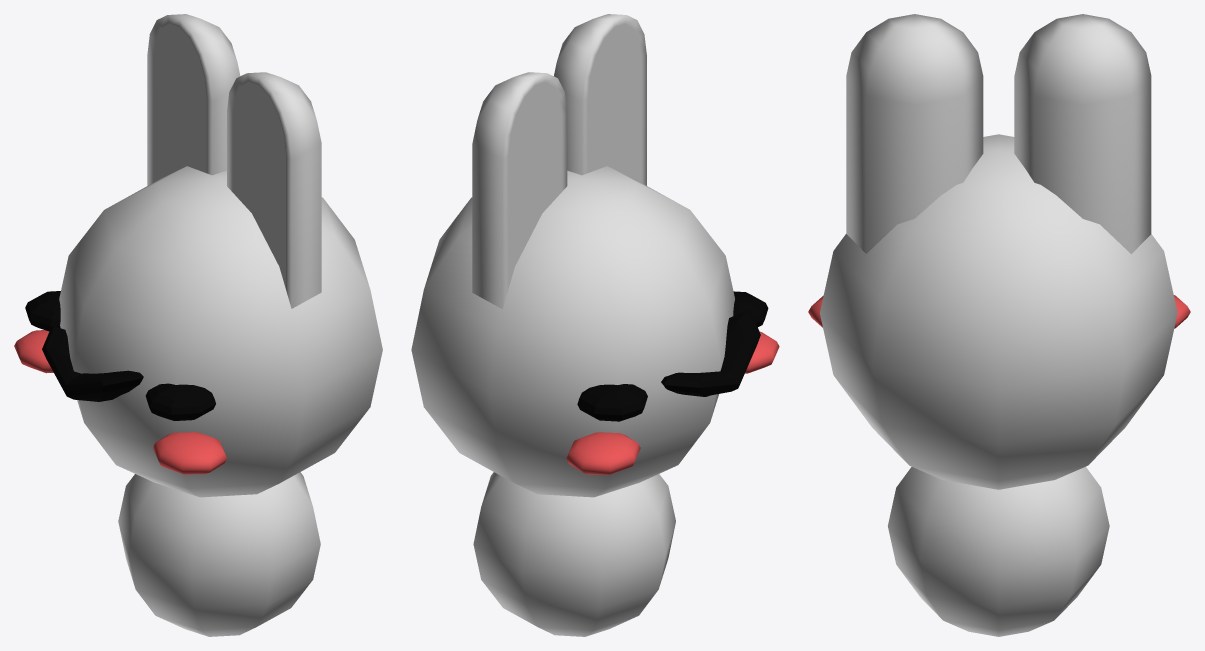
The model's file is CreepyBun_White.fbx.
3 views of the same model, side by side, from view 1: azimuth 30°, elevation 25°; view 2: azimuth 150°, elevation 25°; view 3: azimuth 270°, elevation 25° (orthographic). The views are drawn at different scales.
Visible parts, largest first — view 1: CreepyBun_White; view 2: CreepyBun_White; view 3: CreepyBun_White.
Part boxes in pixels (x1,y1,x2,y2): CreepyBun_White: [14, 14, 382, 636]; CreepyBun_White: [411, 14, 779, 636]; CreepyBun_White: [808, 14, 1190, 636].
Size of the model in its own units: 106 by 191 by 108.
